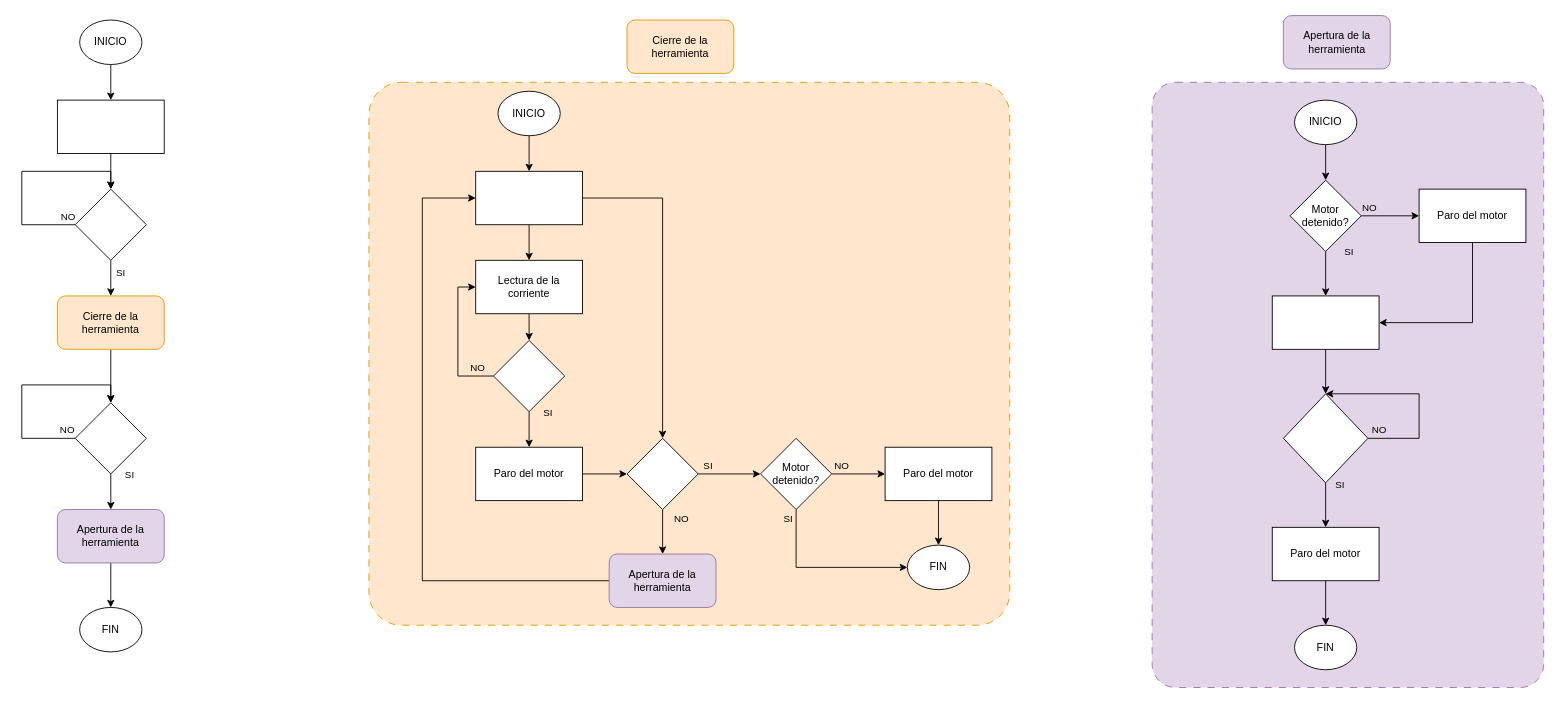
The diagram is 1559 pixels wide and 703 high, and some of its shapes have lost their labels. The shapes that lost their labels are listed below. From the top down, each one's box as (x1, y1, x2, y2) in pixels, then its label:
(57, 99, 164, 154): Herramienta colocada en posición inicial (abierta)
(475, 170, 583, 225): Activación del motor
(74, 188, 146, 260): Iniciar proceso?
(1271, 295, 1379, 349): Acitvación del motor en modo reversa
(493, 340, 565, 412): Superior al límite?
(74, 402, 146, 474): Corte confirmado ?
(1282, 393, 1368, 483): Final de carrera - apertura?
(626, 437, 698, 510): Final de carrera -cierre?
